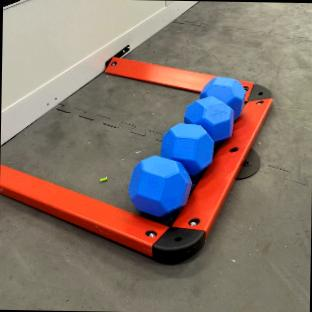V5_BLUE: (129, 156, 190, 216), (160, 122, 212, 174), (184, 96, 234, 139), (200, 77, 243, 116)
